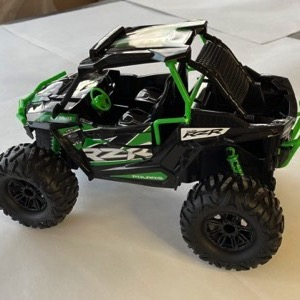polaris: (2, 20, 299, 273)
